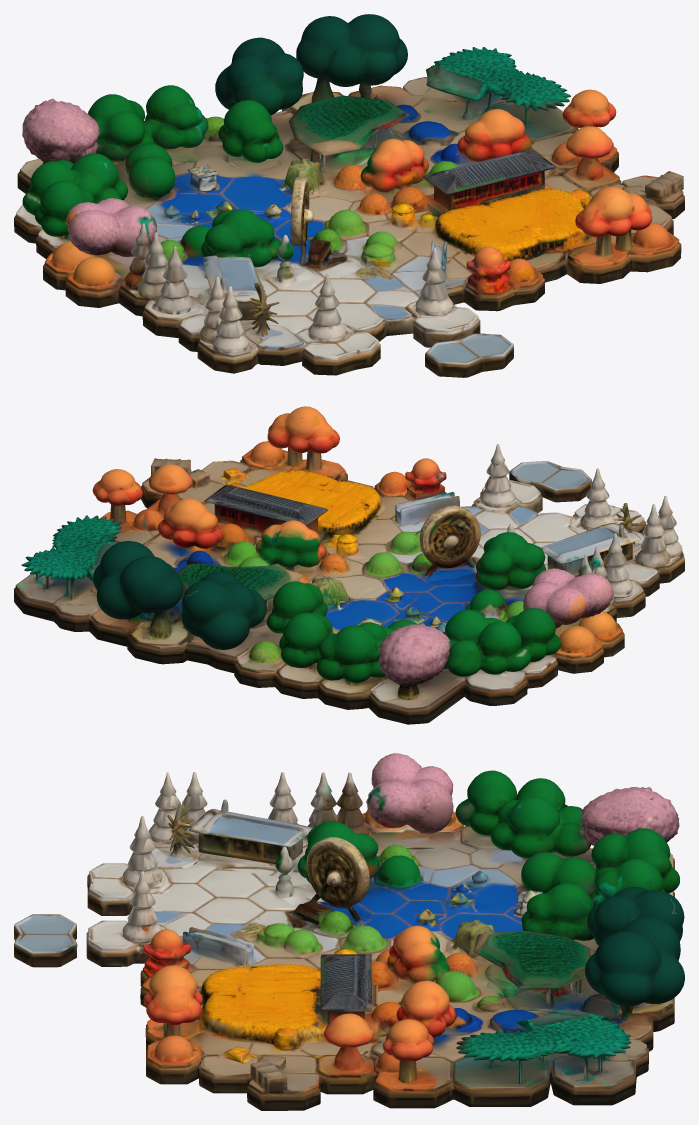
The model's file is award-09.glb.
The picture shows the model from 3 angles, top to bottom: view 1: azimuth 30°, elevation 25°; view 2: azimuth 150°, elevation 25°; view 3: azimuth 270°, elevation 25°; orthographic projection. The views are drawn at different scales.
Visible parts, largest first — view 1: node_0; view 2: node_0; view 3: node_0.
Boxes of the visible parts, x1,y1,x2,y2 form: node_0: (14, 14, 684, 377); node_0: (14, 406, 684, 724); node_0: (14, 753, 684, 1110).
Bounding box in the file's own units: 0.9664 × 0.1657 × 0.9615.
Materials: 1 (1 with a texture image).
